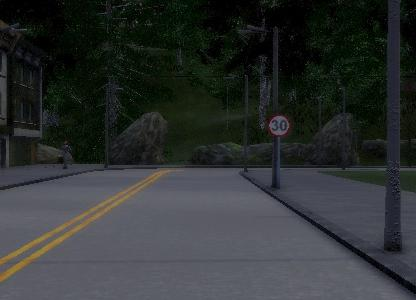Speed_30: (268, 113, 293, 138)
